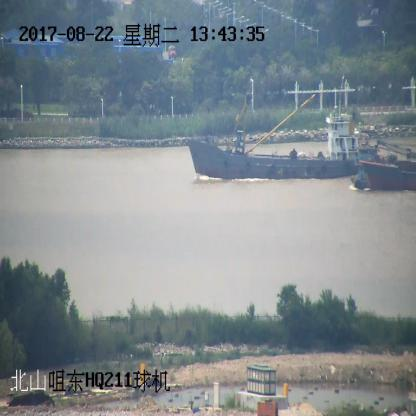Fishing Boat: (186, 91, 371, 179), (356, 139, 416, 190)
